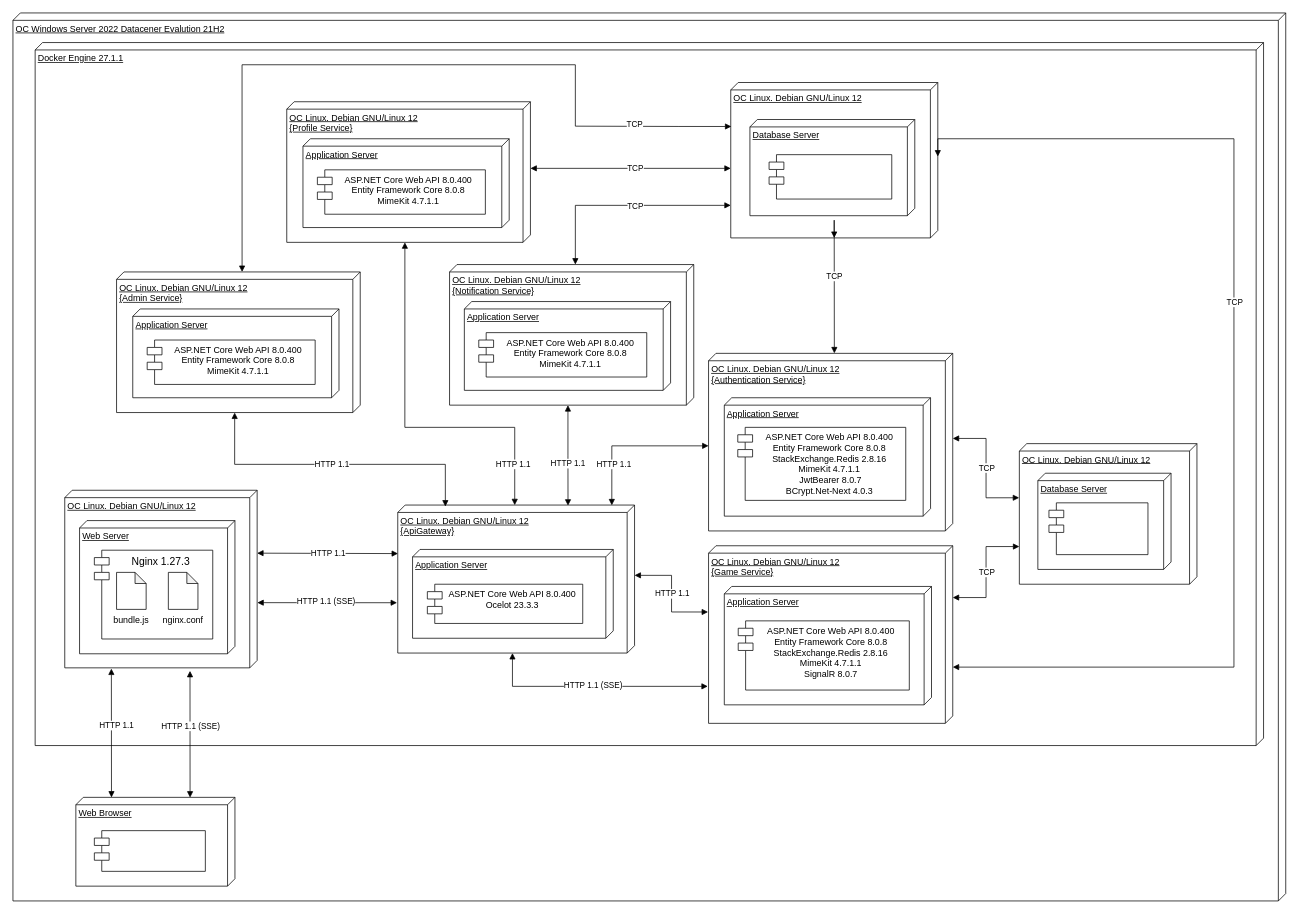
This 1299x914 diagram has some shape labels left out. Here are the shapes that lost their labels. From the top down, the centre of each, then its label:
At (x=830, y=176): "MS SQL Server 2019 (RTM) 15.0.2000.5".
At (x=1098, y=528): "Redis 7.4.0".
At (x=149, y=850): "Microsoft Edge 131.0.2903.112".
